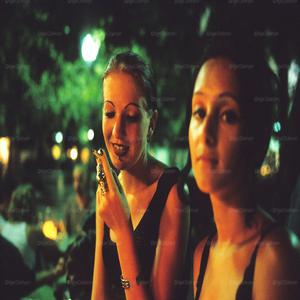cigarette: (92, 149, 103, 159)
